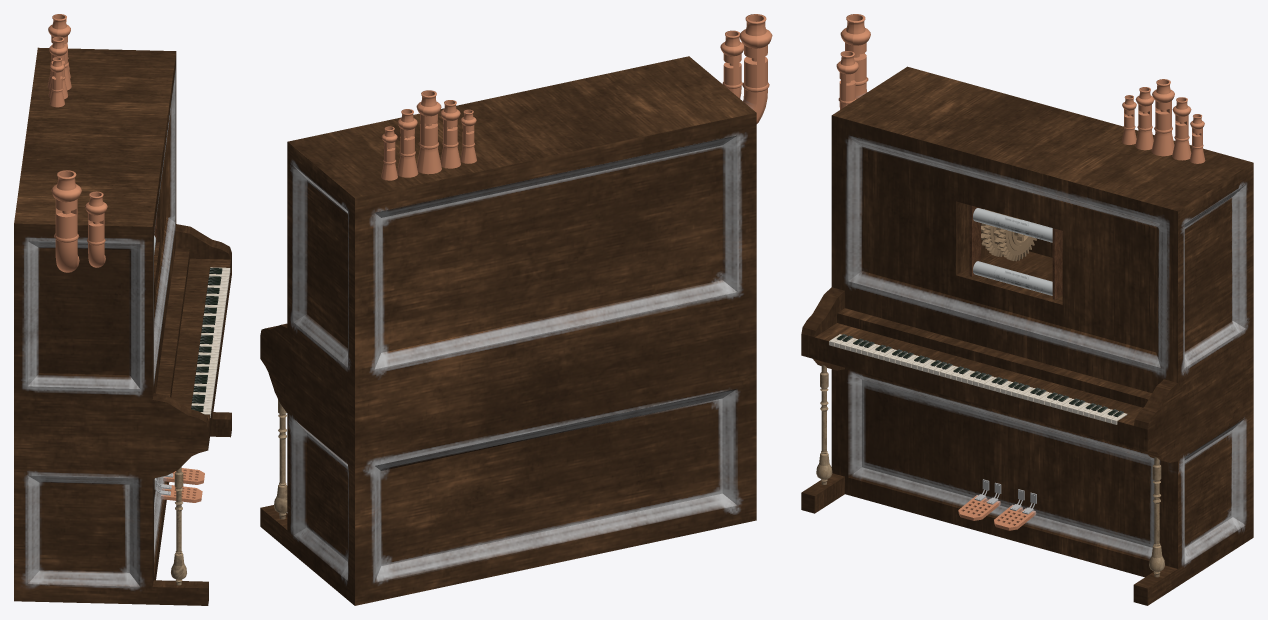
File: Piano.obj
The picture shows the model from 3 angles, left to right: view 1: azimuth 30°, elevation 25°; view 2: azimuth 150°, elevation 25°; view 3: azimuth 270°, elevation 25°; orthographic projection. The views are drawn at different scales.
Visible parts, largest first — view 1: pianola1_geo; view 2: pianola1_geo; view 3: pianola1_geo.
Part boxes in pixels (x1,y1,x2,y2): pianola1_geo: [14, 14, 231, 605]; pianola1_geo: [260, 14, 772, 605]; pianola1_geo: [801, 14, 1253, 605].
Bounding box in the file's own units: 4.72 × 5.96 × 5.5.
